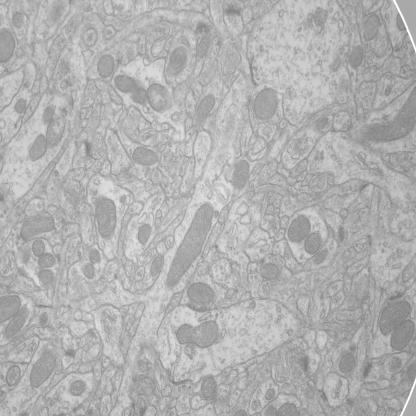mitochondria: (165, 202, 215, 289), (375, 298, 413, 336), (175, 320, 221, 349), (91, 196, 119, 242), (18, 210, 57, 242), (29, 350, 57, 388), (388, 319, 416, 354), (252, 87, 280, 121), (131, 141, 159, 170), (286, 216, 312, 247), (45, 114, 67, 150), (4, 304, 30, 334), (147, 82, 171, 114), (186, 281, 216, 306), (0, 292, 22, 324), (0, 26, 17, 65), (193, 91, 215, 121), (230, 159, 251, 190), (359, 14, 383, 41), (26, 133, 48, 161), (338, 350, 358, 378), (197, 377, 220, 399), (348, 43, 365, 69), (36, 269, 58, 289), (304, 231, 322, 255), (97, 53, 114, 78), (148, 254, 164, 280), (4, 362, 19, 389), (260, 259, 280, 279), (131, 87, 148, 110), (196, 33, 211, 58), (113, 75, 136, 91), (136, 223, 152, 245), (36, 254, 58, 270), (42, 103, 58, 124), (68, 379, 86, 397), (12, 97, 29, 115), (30, 238, 46, 257), (80, 261, 95, 281), (86, 248, 103, 265), (11, 10, 26, 28)
